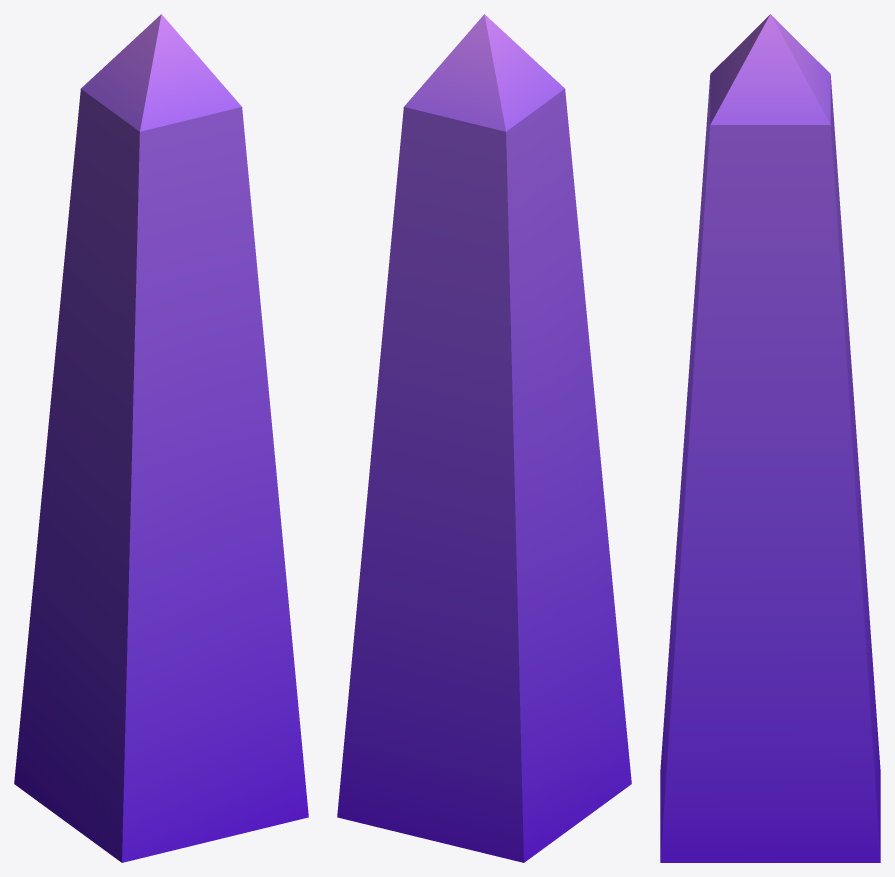
Rendered from DesertPillars.fbx.
3 views of the same model, side by side, from view 1: azimuth 30°, elevation 25°; view 2: azimuth 150°, elevation 25°; view 3: azimuth 270°, elevation 25° (orthographic). The views are drawn at different scales.
Visible parts, largest first — view 1: pillar3; view 2: pillar3; view 3: pillar3.
Part boxes in pixels (x1,y1,x2,y2): pillar3: [14, 14, 308, 862]; pillar3: [337, 14, 631, 862]; pillar3: [660, 14, 880, 862].
Bounding box in the file's own units: 280 × 1125 × 280.
